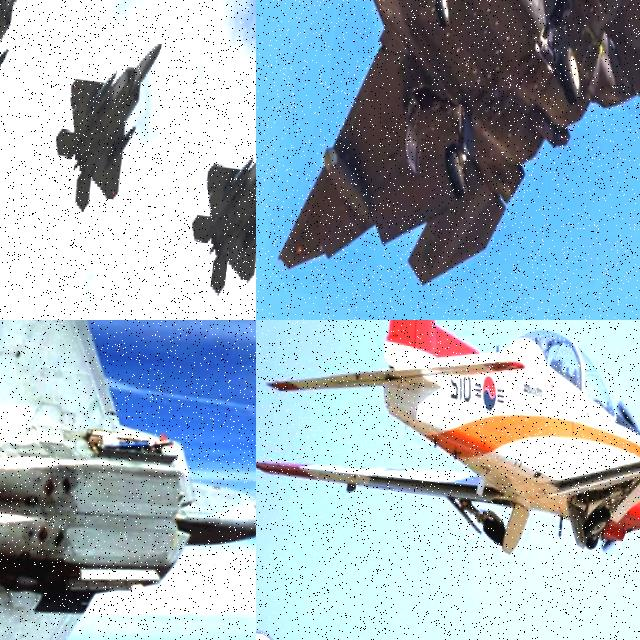F22: (272, 0, 640, 320), (0, 320, 256, 640), (47, 30, 163, 218), (184, 108, 256, 304), (0, 0, 35, 144)
KT-1: (256, 320, 640, 589)
